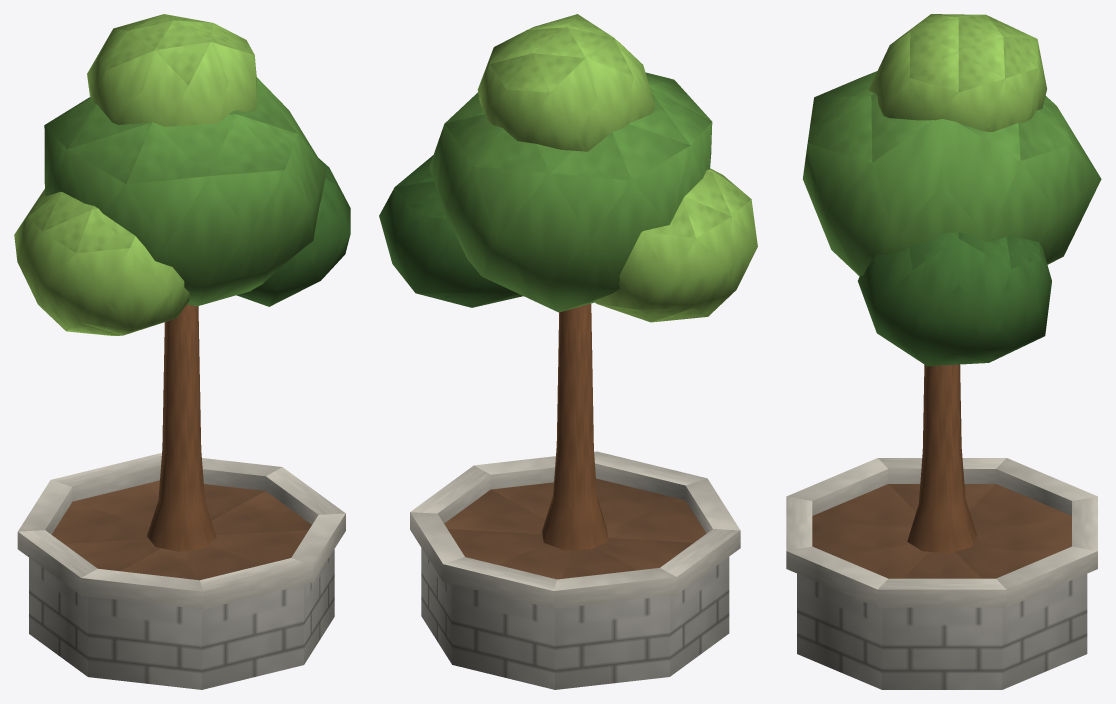
File: tree_planter_01.glb
3 views of the same model, side by side, from view 1: azimuth 30°, elevation 25°; view 2: azimuth 150°, elevation 25°; view 3: azimuth 270°, elevation 25° (orthographic).
Visible parts, largest first — view 1: tree_planter_01; view 2: tree_planter_01; view 3: tree_planter_01.
Boxes of the visible parts, left/top/right/bottom form: tree_planter_01: left=14, top=14, right=350, bottom=689; tree_planter_01: left=379, top=14, right=757, bottom=689; tree_planter_01: left=786, top=14, right=1101, bottom=689.
Bounding box in the file's own units: 2.34 × 4.08 × 1.91.
1 material, 1 textured.
